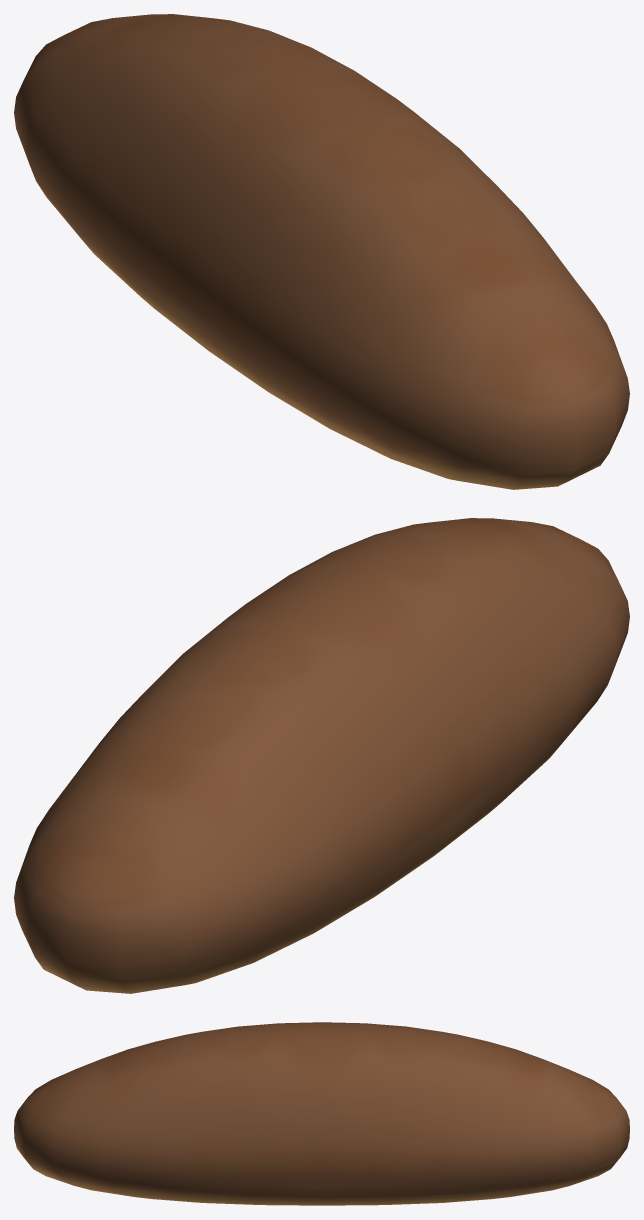
The model's file is bread.fbx.
3 renders of one model, top to bottom at view 1: azimuth 30°, elevation 25°; view 2: azimuth 150°, elevation 25°; view 3: azimuth 270°, elevation 25°, orthographic. The views are drawn at different scales.
Parts seen in each view (by area): view 1: LowPoly; view 2: LowPoly; view 3: LowPoly.
Boxes of the visible parts, x1=… form: LowPoly: x1=14, y1=14, x2=629, y2=489; LowPoly: x1=14, y1=518, x2=629, y2=993; LowPoly: x1=14, y1=1022, x2=629, y2=1205.
Bounding box in the file's own units: 59.92 × 51.32 × 189.
1 material, 1 textured.
